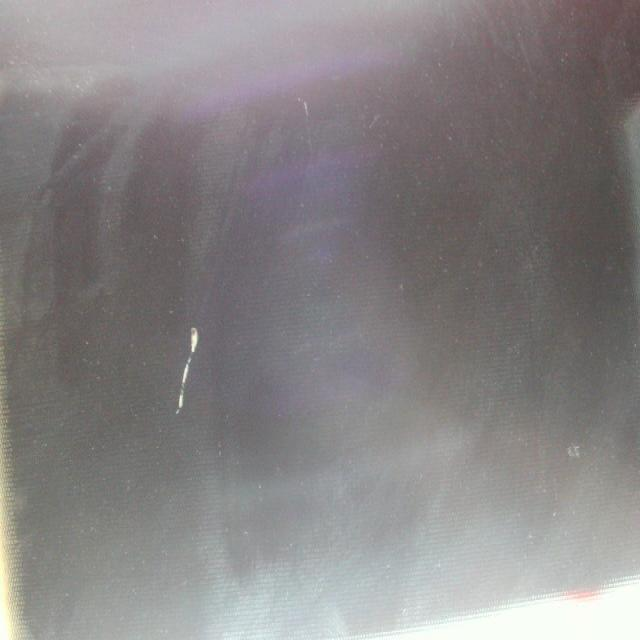scratch: (176, 307, 208, 430)
